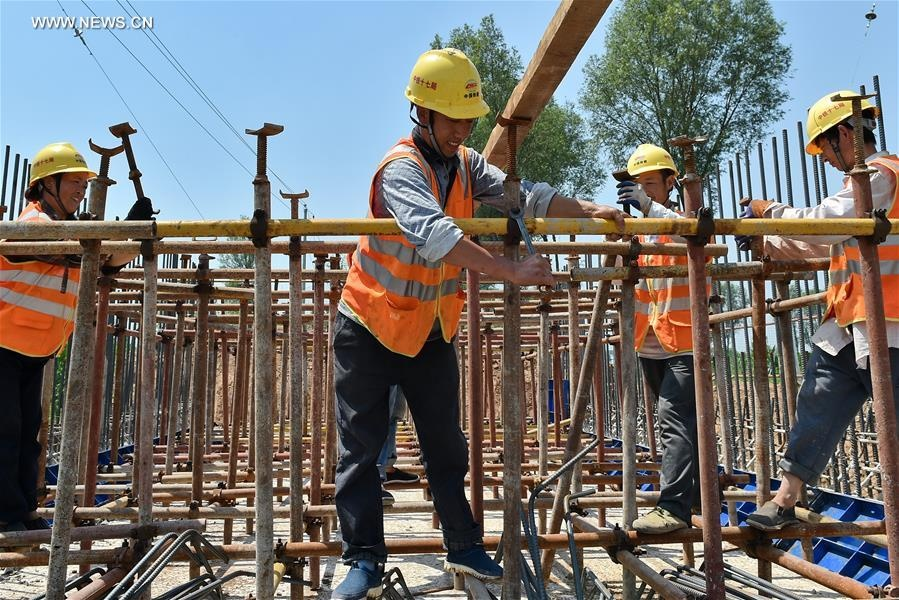yellow: (404, 43, 482, 155), (804, 88, 875, 168), (28, 143, 91, 212), (628, 141, 674, 205)
